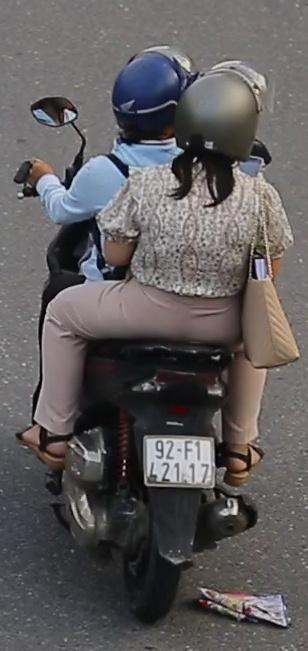LP: (138, 428, 218, 494)
helmet: (158, 58, 278, 199), (107, 40, 199, 158)
